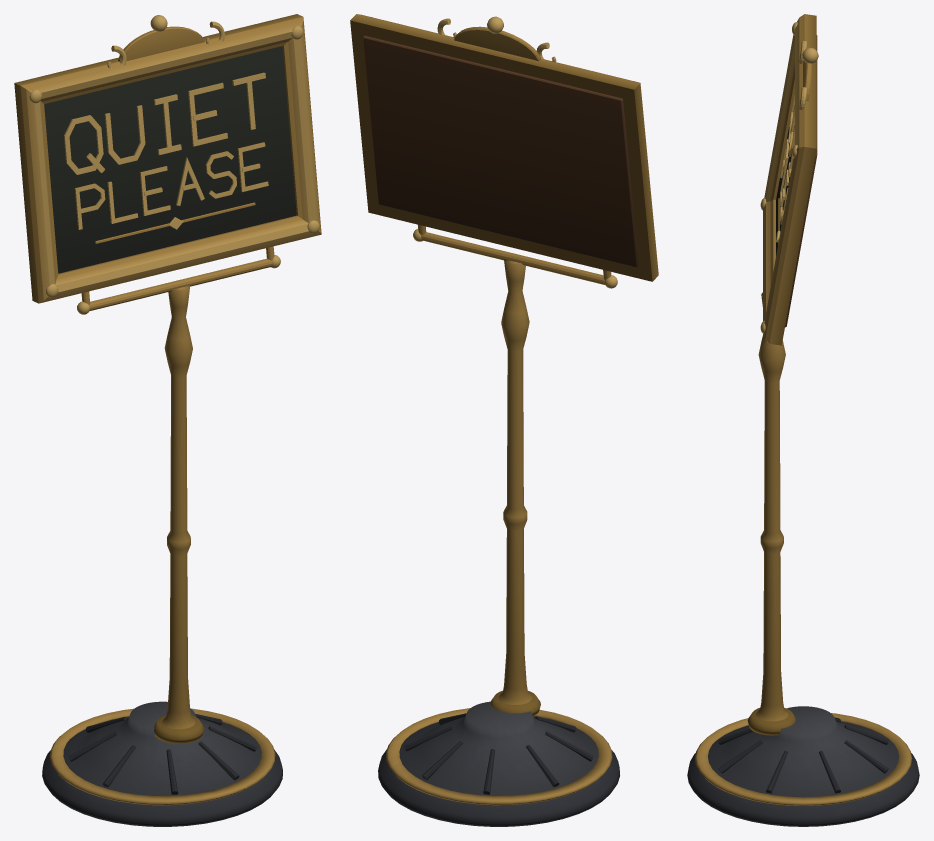
Rendered from quiet-sign.glb.
The picture shows the model from 3 angles, left to right: view 1: azimuth 30°, elevation 25°; view 2: azimuth 150°, elevation 25°; view 3: azimuth 270°, elevation 25°; orthographic projection. The views are drawn at different scales.
Parts seen in each view (by area): view 1: quiet_sign; view 2: quiet_sign; view 3: quiet_sign.
Boxes of the visible parts, x1,y1,x2,y2 form: quiet_sign: (14, 14, 321, 826); quiet_sign: (350, 14, 658, 826); quiet_sign: (687, 14, 919, 826).
Size of the model in its own units: 0.46 by 1.18 by 0.34.
